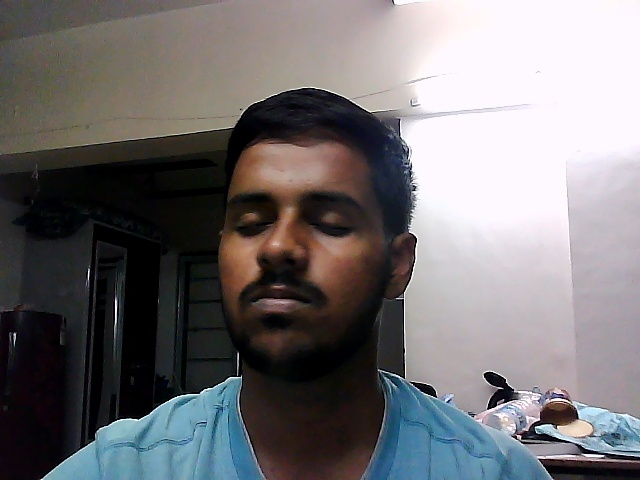drowsy: (195, 77, 447, 391)
